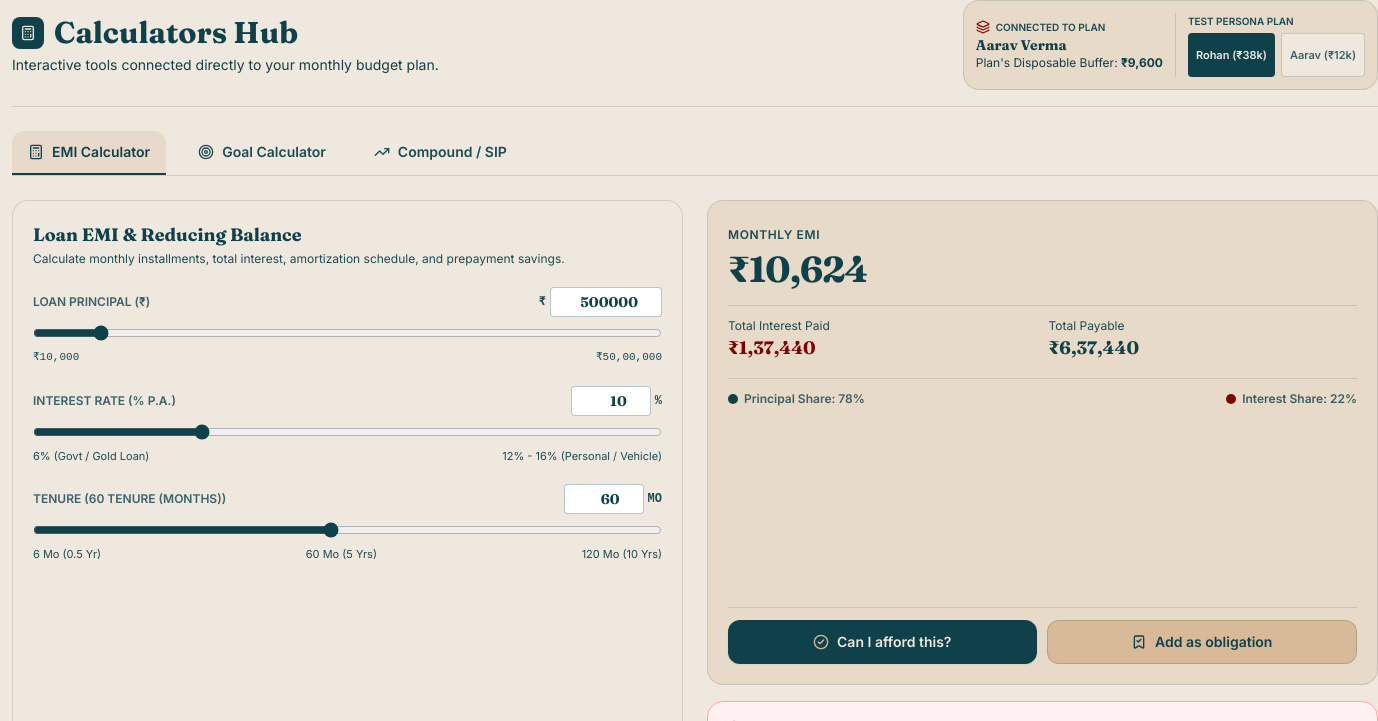
Test case: CalculatorsScreen Component Suite › switches to Compound / SIP Calculator and outputs P3 test vector (~11,61,695) and early start comparison
Click the tab "Compound / SIP" at (440,153), box [358, 131, 523, 175]
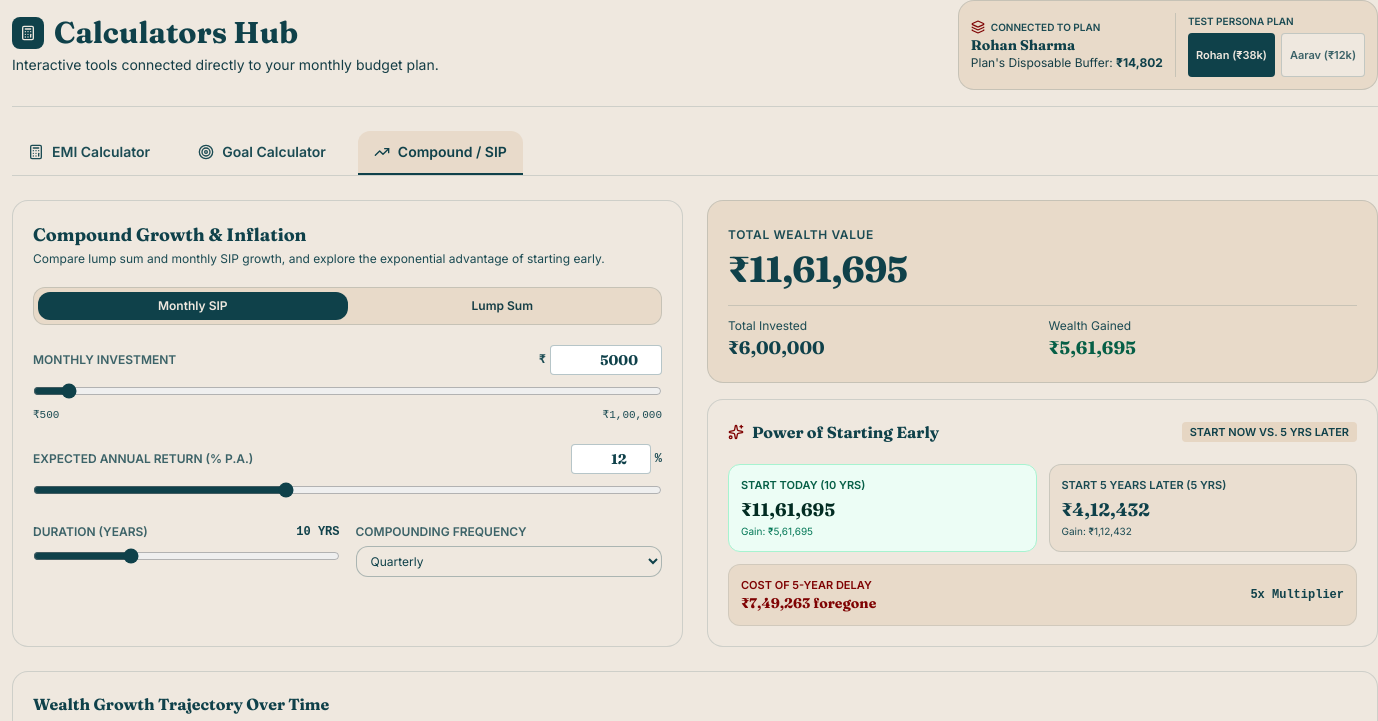
Result: the text with test id "compound-maturity-output" shows "11,61,695" at [728, 247, 907, 291]
Result: the heading "Power of Starting Early" is shown at [752, 420, 939, 444]
Result: the text "Cost of 5-Year Delay" is shown at [741, 576, 876, 592]
